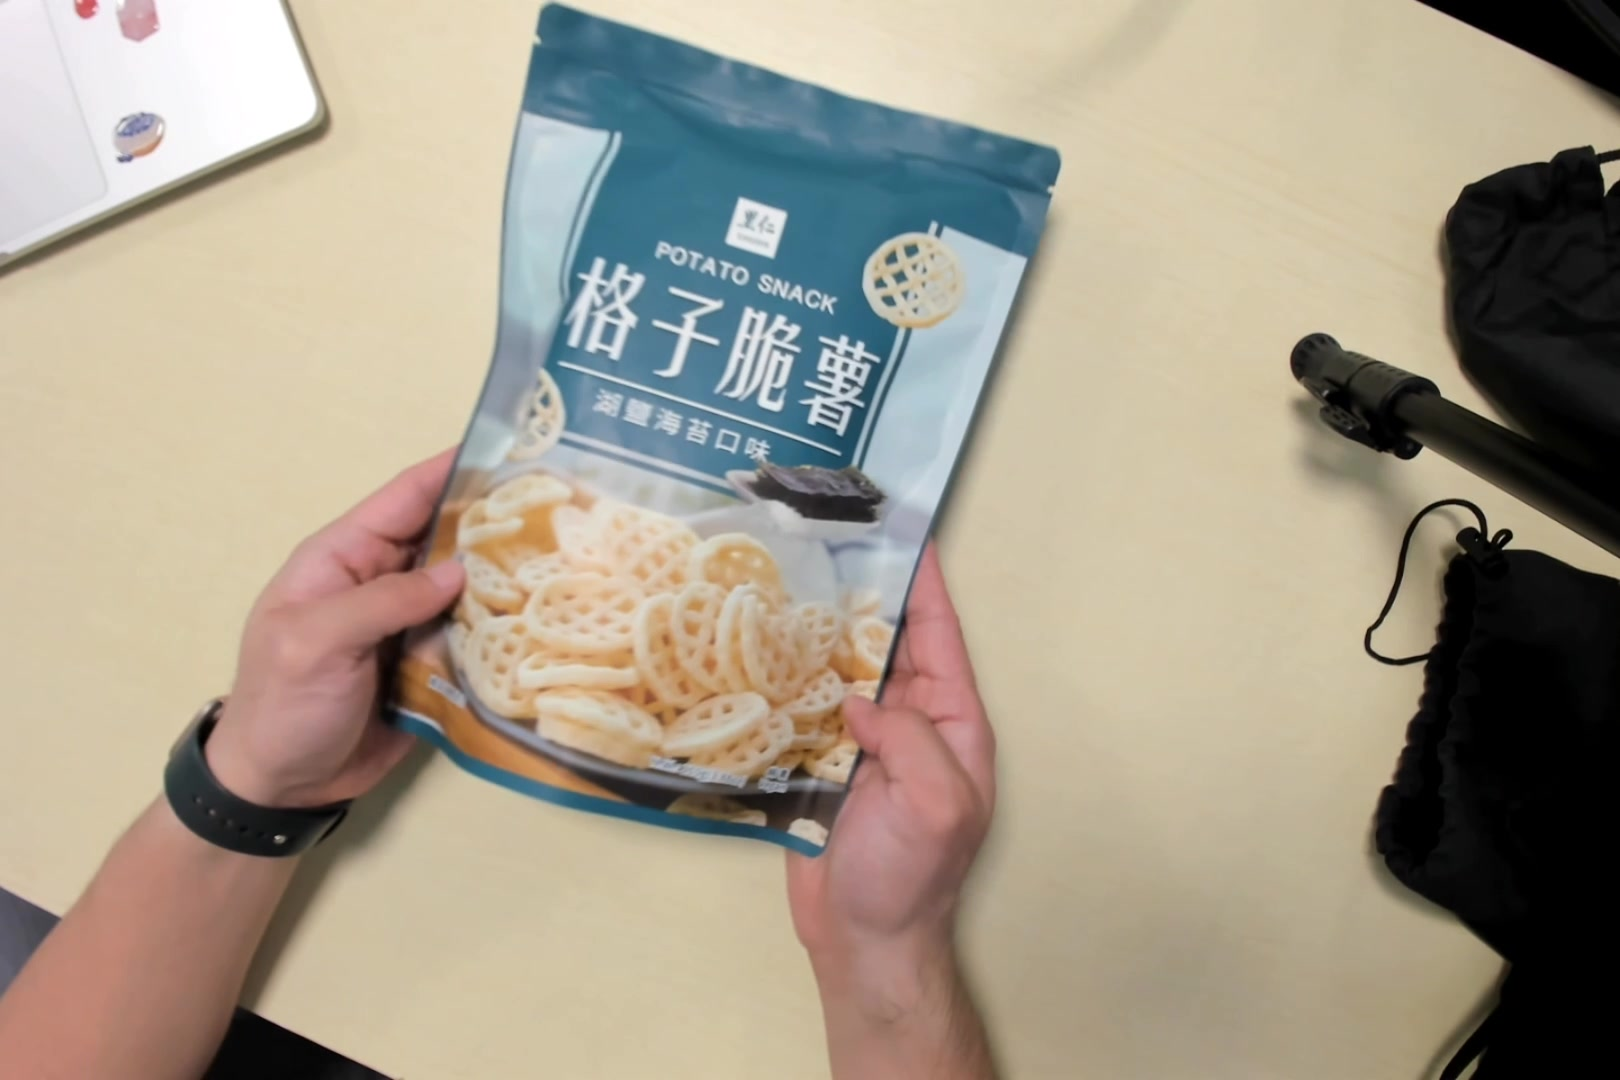PotatoChipsKeropok_100-199g_NonHalal_NonHealthy: (413, 24, 1053, 853)
